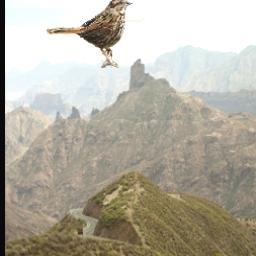Sparrow: (46, 0, 132, 68)
